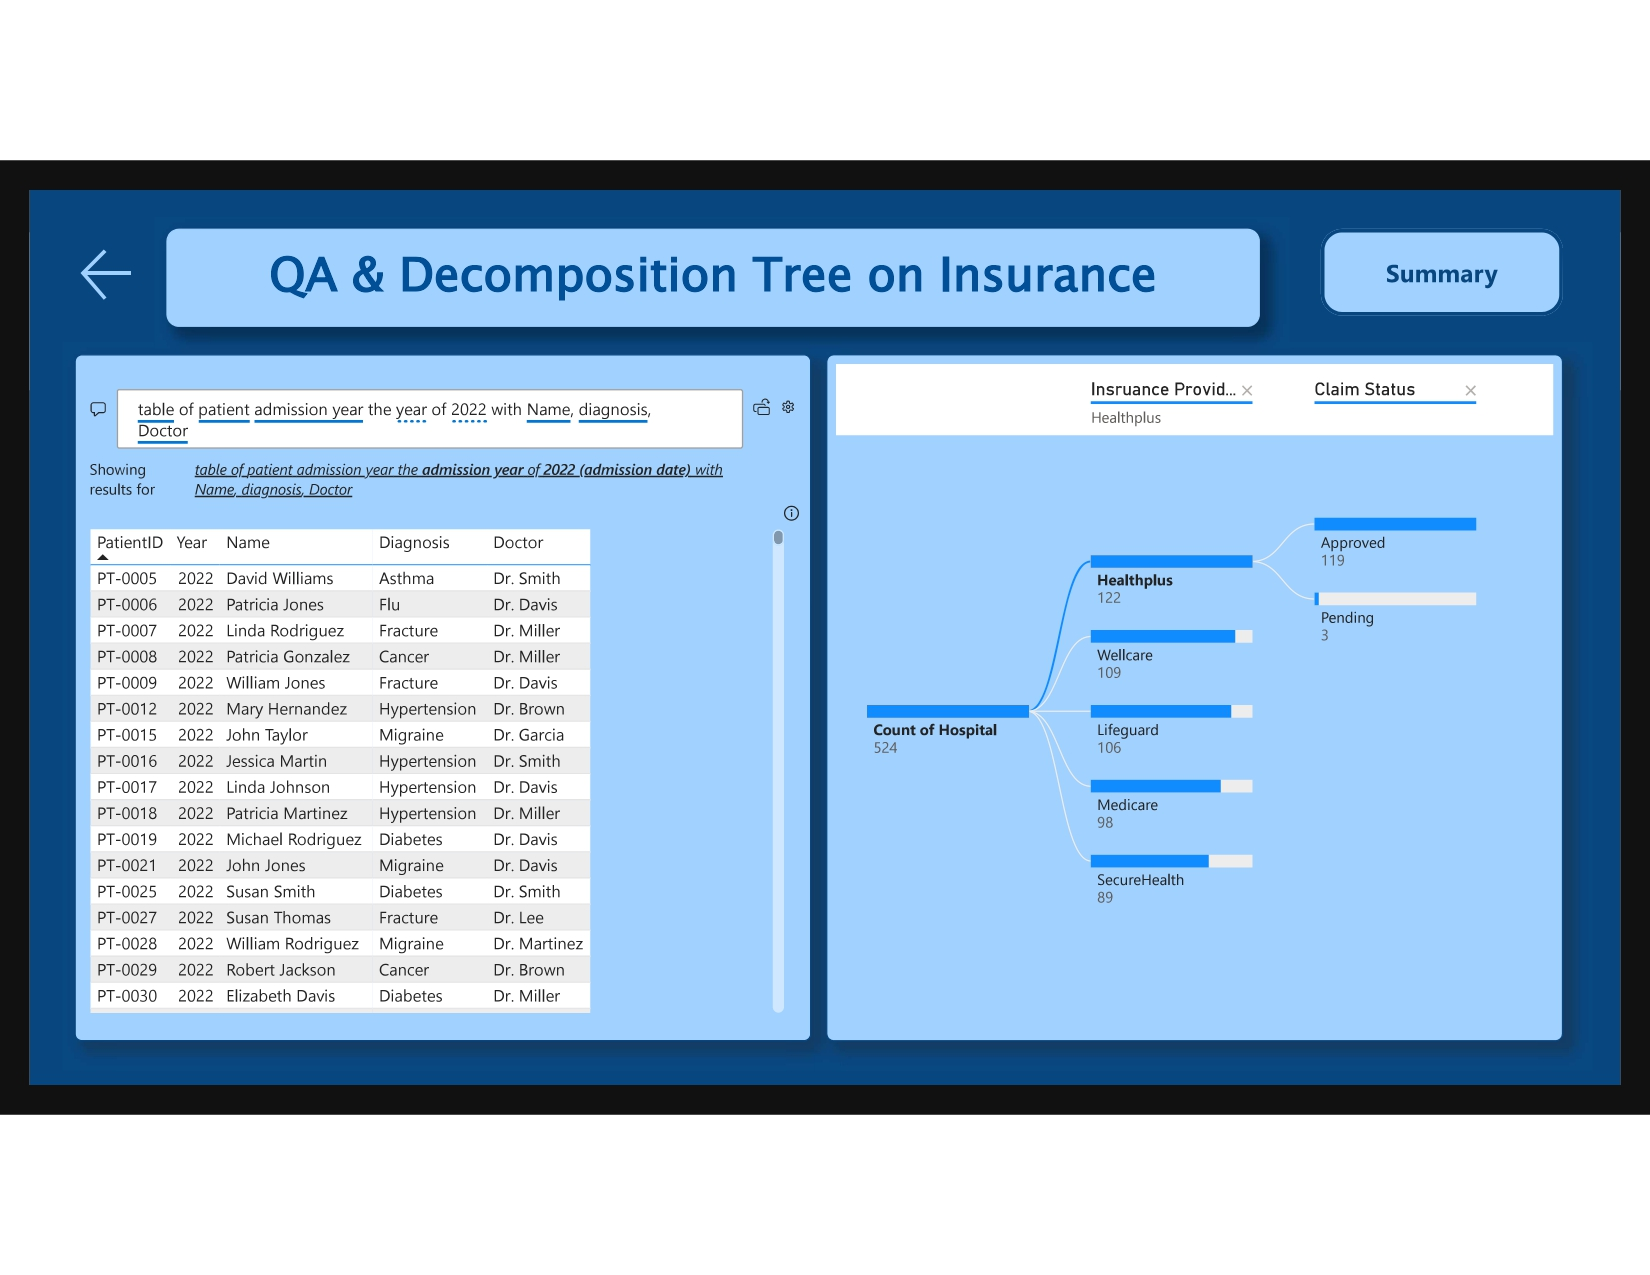

What the dashboard file says about the page in this screenshot:
{"tool":"powerbi","page":{"name":"QA & Decompositon Tree","canvas":[1280,720],"ordinal":4},"visuals":[{"type":"textbox","box":[110,31.2,879.9,78.8],"z":0},{"type":"qnaVisual","title":"Diagnosis based on Hospitals","box":[35.7,132.3,593.1,552.9],"z":3000},{"type":"decompositionTreeVisual","title":"Diagnosis based on Hospitals","fields":{"Analyze":["CountNonNull(Health_Care_Project (real time).Hospital)"],"ExplainBy":["Health_Care_Project (real time).Insruance Provider","Health_Care_Project (real time).Claim Status"]},"box":[640.6,132.3,593.1,552.9],"z":3001},{"type":"actionButton","box":[35.7,41.6,55,52],"z":3002},{"type":"actionButton","box":[1039,31.2,194.7,69.9],"z":3004}]}

Visuals, with their boxes in screenshot pixels (x1, y1, x2, y2):
textbox: <bbox>174, 227, 1252, 324</bbox>
"Diagnosis based on Hospitals" qnaVisual: <bbox>82, 351, 810, 1029</bbox>
"Diagnosis based on Hospitals" decompositionTreeVisual: <bbox>824, 351, 1551, 1029</bbox>
actionButton: <bbox>82, 240, 150, 304</bbox>
actionButton: <bbox>1313, 227, 1551, 313</bbox>
